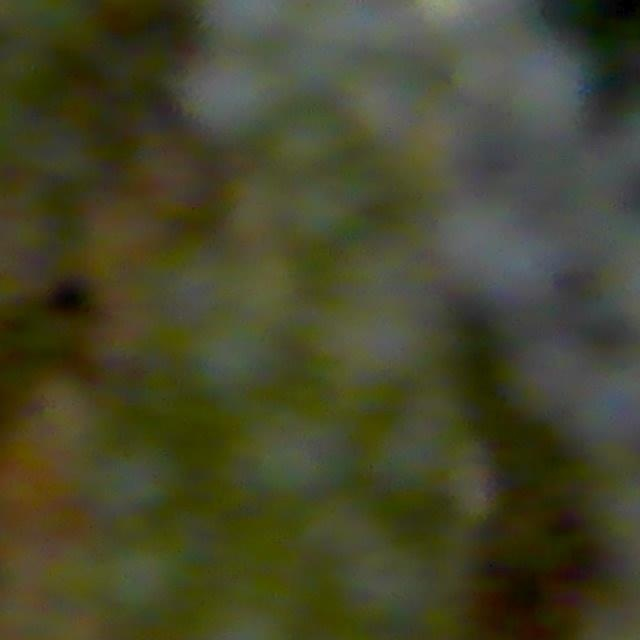SeaGrape: (236, 393, 356, 503), (446, 198, 555, 307), (189, 50, 295, 147), (181, 305, 286, 401), (99, 534, 193, 622), (98, 434, 188, 520), (504, 50, 583, 144), (272, 103, 350, 180), (449, 43, 507, 102), (528, 352, 589, 405)
